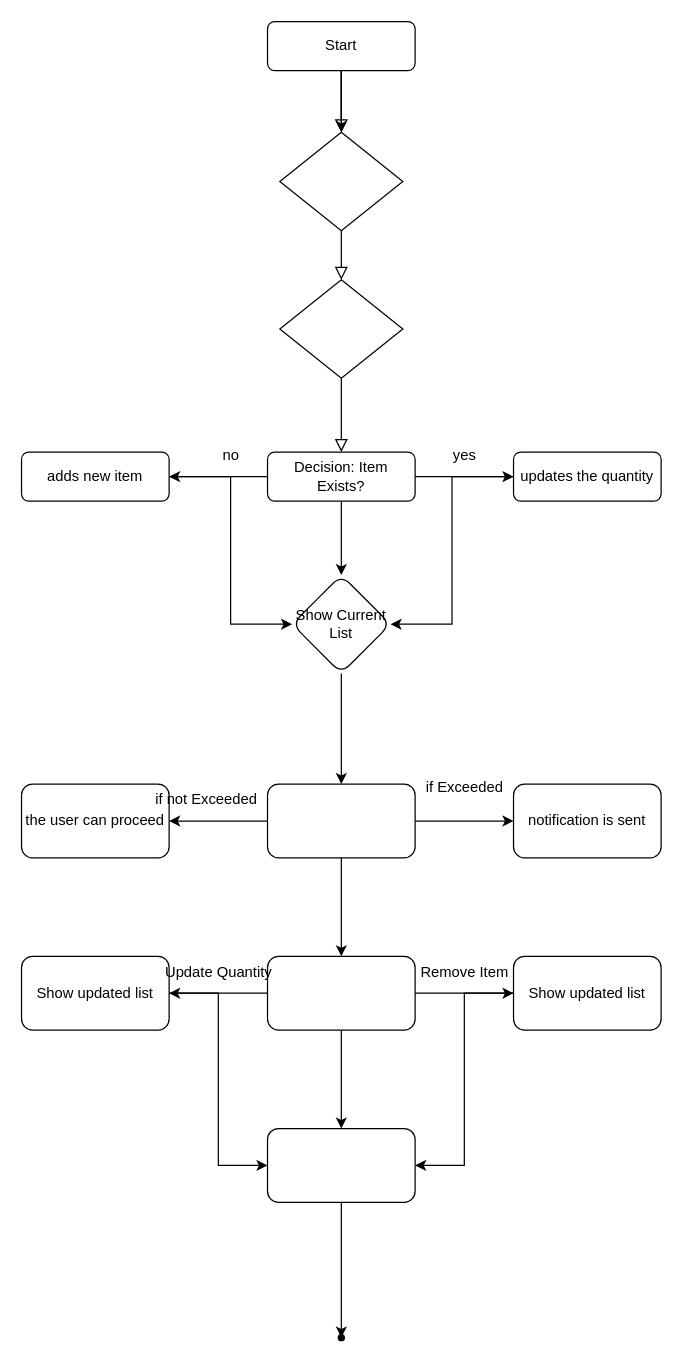
Image size: 683x1371. Some labels were removed from this diagram. The shapes that lost their labels are listed below. From the top down, each one's box as (x1, y1, x2, y2) in pixels, then its label:
(279, 131, 403, 231): User Inputs Item
(279, 279, 403, 378): Check Inventory
(266, 783, 415, 858): Budget Check (optional)
(266, 955, 415, 1030): Edit
(266, 1127, 415, 1202): Save
